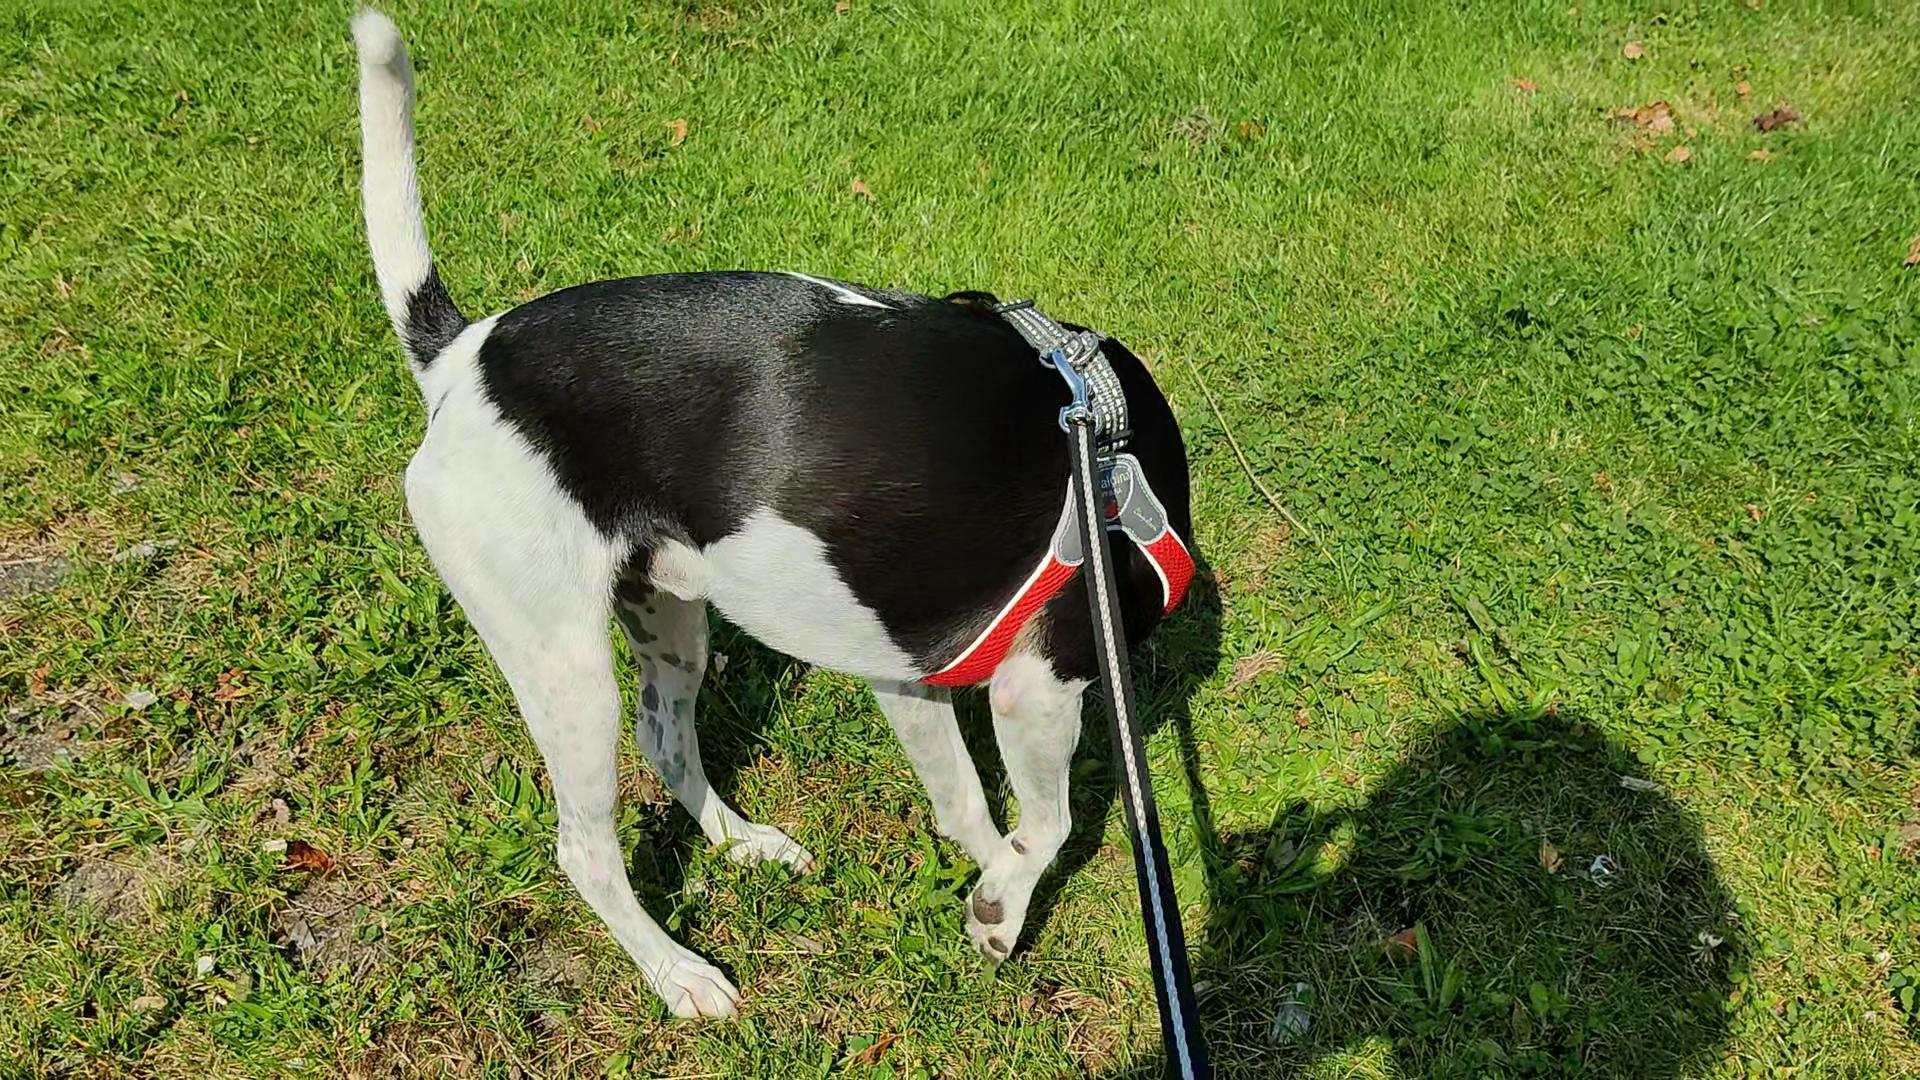Dog: (345, 8, 1207, 1023)
